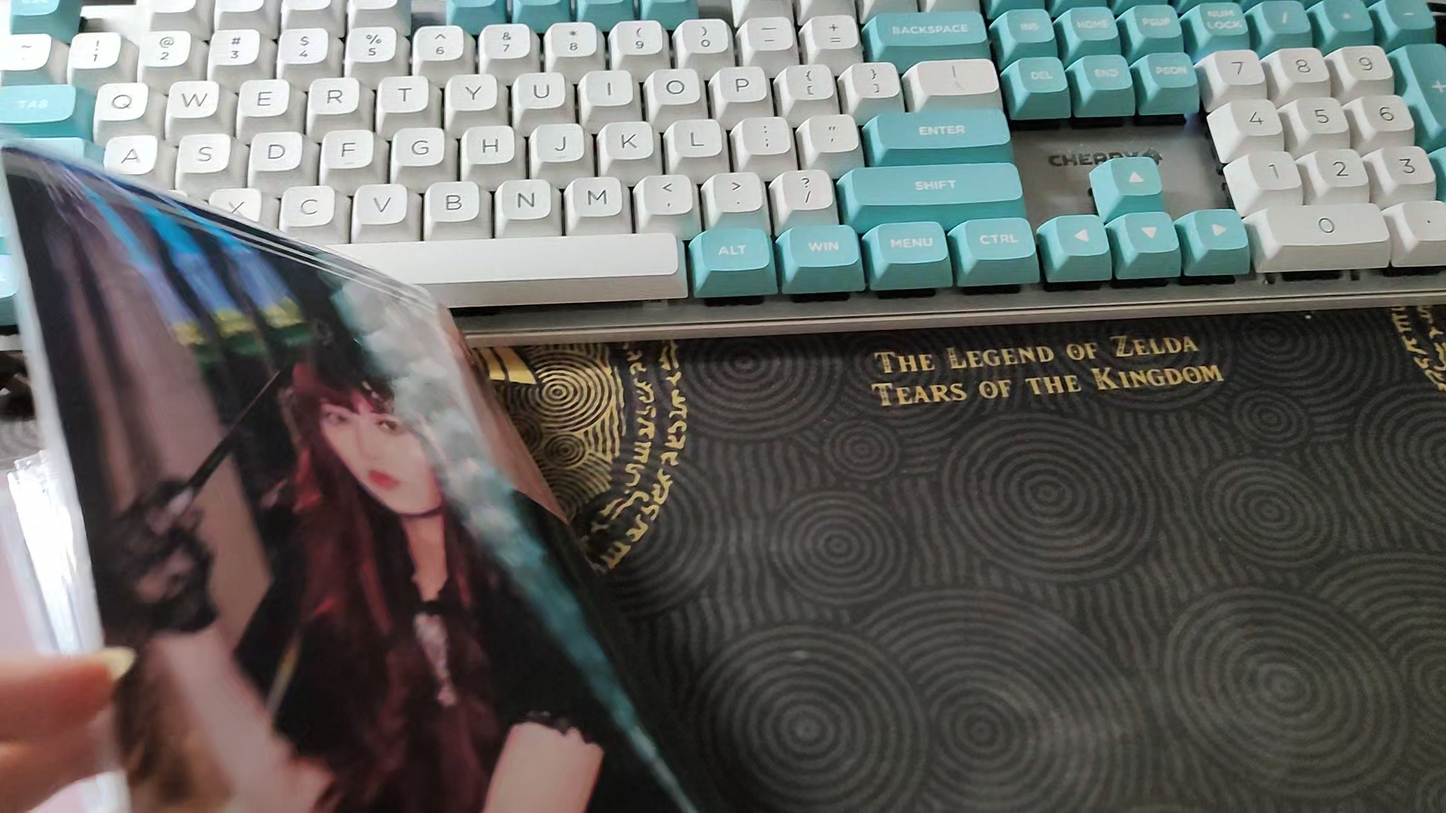Photo_book: (0, 142, 709, 813)
